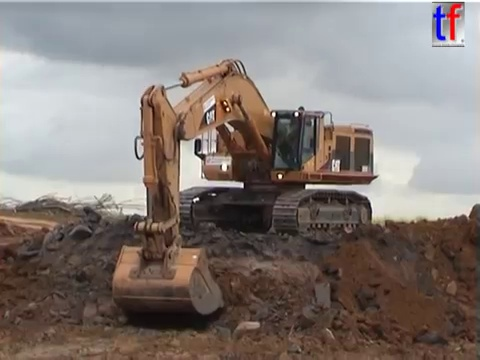excavator: (107, 55, 380, 320)
